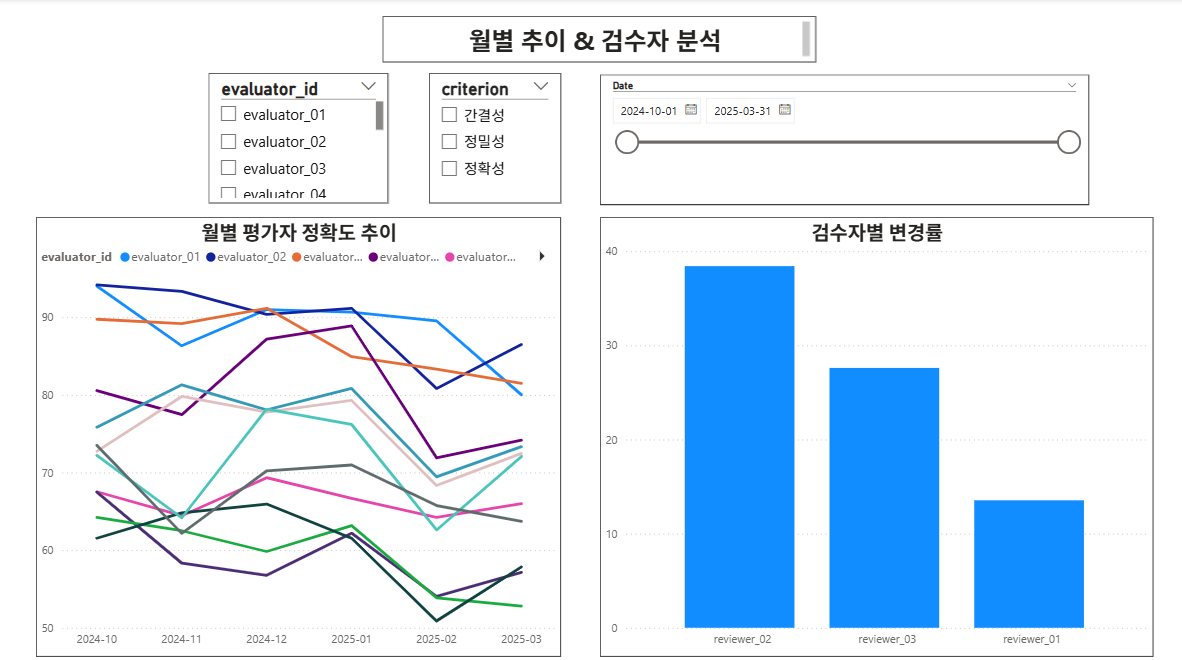

What the dashboard file says about the page in this screenshot:
{"tool":"powerbi","page":{"name":"월별  추이 및 검수자 분석","canvas":[1280,720],"ordinal":1},"visuals":[{"type":"lineChart","title":"월별 평가자 정확도 추이","fields":{"Category":["eval_data.평가월"],"Y":["eval_data.정확도"],"Series":["eval_data.evaluator_id"]},"box":[42.1,236.4,566.7,474.4],"z":0},{"type":"clusteredColumnChart","title":"검수자별 변경률","fields":{"Category":["eval_data.reviewer_id"],"Y":["eval_data.변경률"]},"box":[650.9,236.4,597.5,474.4],"z":1000},{"type":"slicer","fields":{"Values":["eval_data.evaluator_id"]},"box":[228.3,81,194.3,140.9],"z":2000},{"type":"slicer","fields":{"Values":["eval_data.criterion"]},"box":[466.3,81,142.5,140.9],"z":3000},{"type":"slicer","fields":{"Values":["eval_data.eval_date"]},"box":[650.9,82.6,527.9,140.9],"z":4000},{"type":"textbox","box":[416.1,19.4,468,50.2],"z":4001}]}

Visuals, with their boxes in screenshot pixels (x1, y1, x2, y2), scaled from the page's 1280x720 canvas onto the 1182x660 screenshot:
"월별 평가자 정확도 추이" lineChart: rect(39, 217, 562, 652)
"검수자별 변경률" clusteredColumnChart: rect(601, 217, 1153, 652)
slicer - eval_data.evaluator_id: rect(211, 74, 390, 203)
slicer - eval_data.criterion: rect(431, 74, 562, 203)
slicer - eval_data.eval_date: rect(601, 76, 1089, 205)
textbox: rect(384, 18, 816, 64)
